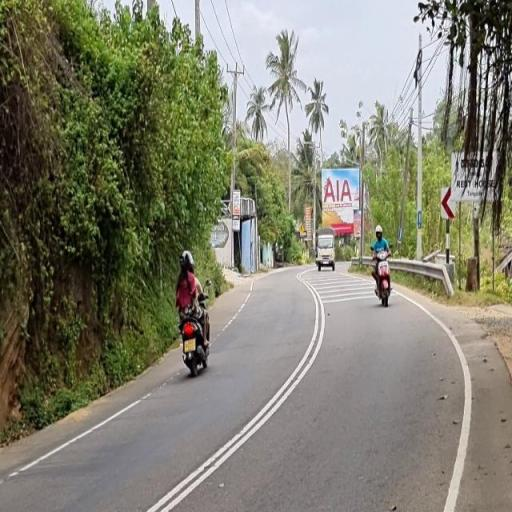double_white_line: (142, 278, 326, 510)
